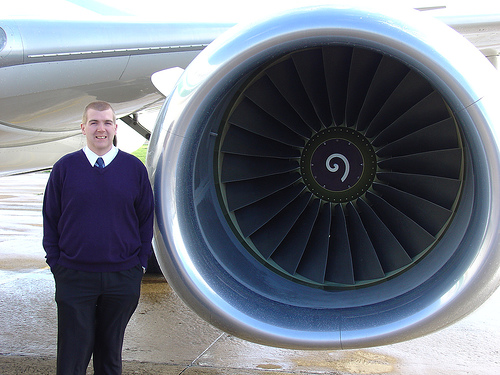without_mask: (79, 102, 122, 154)
